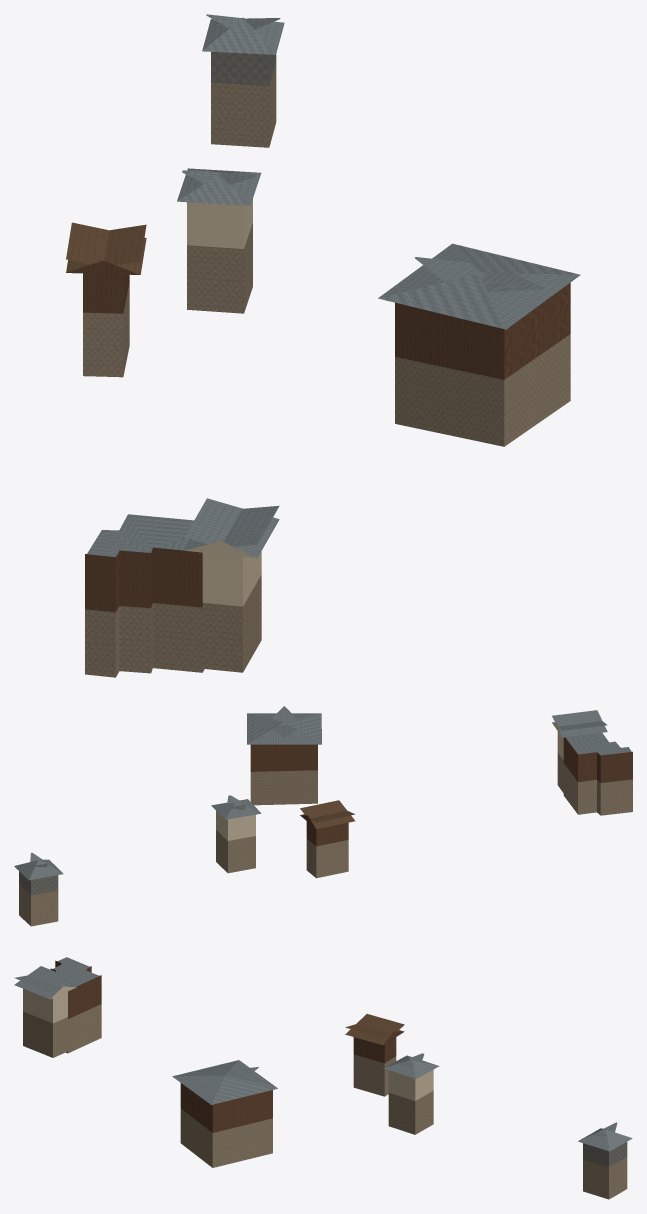
Rendered from bld_c2_16_460.gltf.
3 views of the same model, one above another, from view 1: azimuth 30°, elevation 25°; view 2: azimuth 150°, elevation 25°; view 3: azimuth 270°, elevation 25° (orthographic). The views are drawn at different scales.
Visible parts, largest first — view 1: bld_c2_16_460; view 2: bld_c2_16_460; view 3: bld_c2_16_460.
Boxes of the visible parts, left/top/right/bottom form: bld_c2_16_460: left=66, top=14, right=580, bottom=677; bld_c2_16_460: left=14, top=706, right=632, bottom=926; bld_c2_16_460: left=14, top=957, right=632, bottom=1199.
Bounding box in the file's own units: 55.45 × 11.6 × 79.05.
8 materials, 8 textured.
